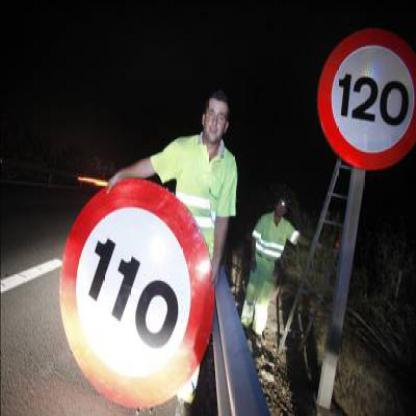Speed Limit 110: (66, 181, 203, 402)
Speed Limit 120: (321, 29, 416, 169)
